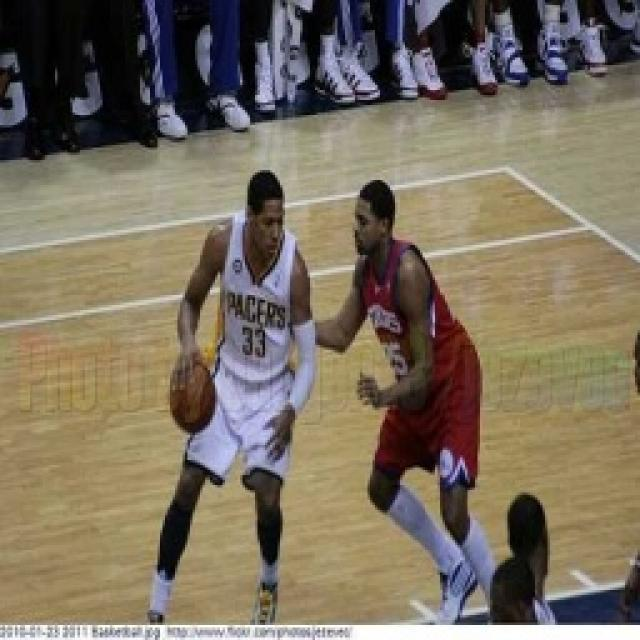rim: (170, 355, 214, 439)
